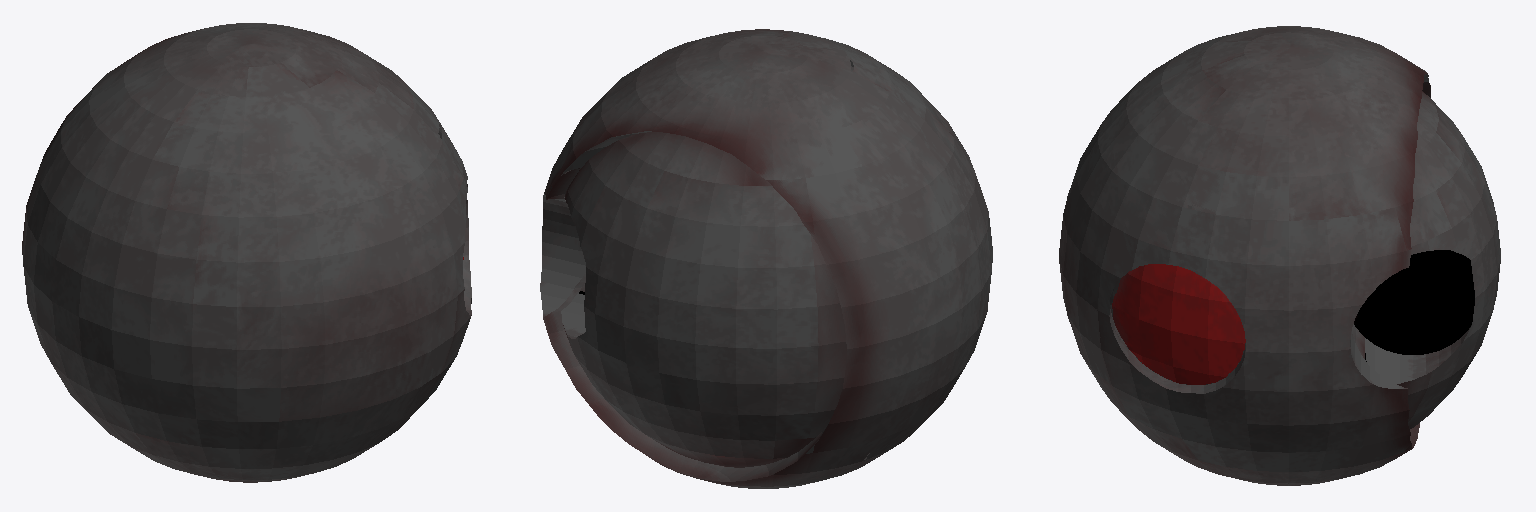
The picture shows the model from 3 angles: view 1: azimuth 30°, elevation 25°; view 2: azimuth 150°, elevation 25°; view 3: azimuth 270°, elevation 25°; orthographic projection.
Visible parts, largest first — view 1: 球_球.004; view 2: 球_球.004; view 3: 球_球.004.
Boxes of the visible parts, x1,y1,x2,y2 form: 球_球.004: [22, 23, 471, 482]; 球_球.004: [540, 29, 992, 488]; 球_球.004: [1059, 26, 1500, 485].
Size of the model in its own units: 10.4 by 10.4 by 10.
Materials: 1 (1 with a texture image).